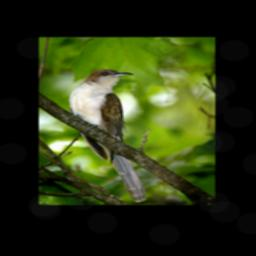Cuckoo: (66, 68, 147, 202)
